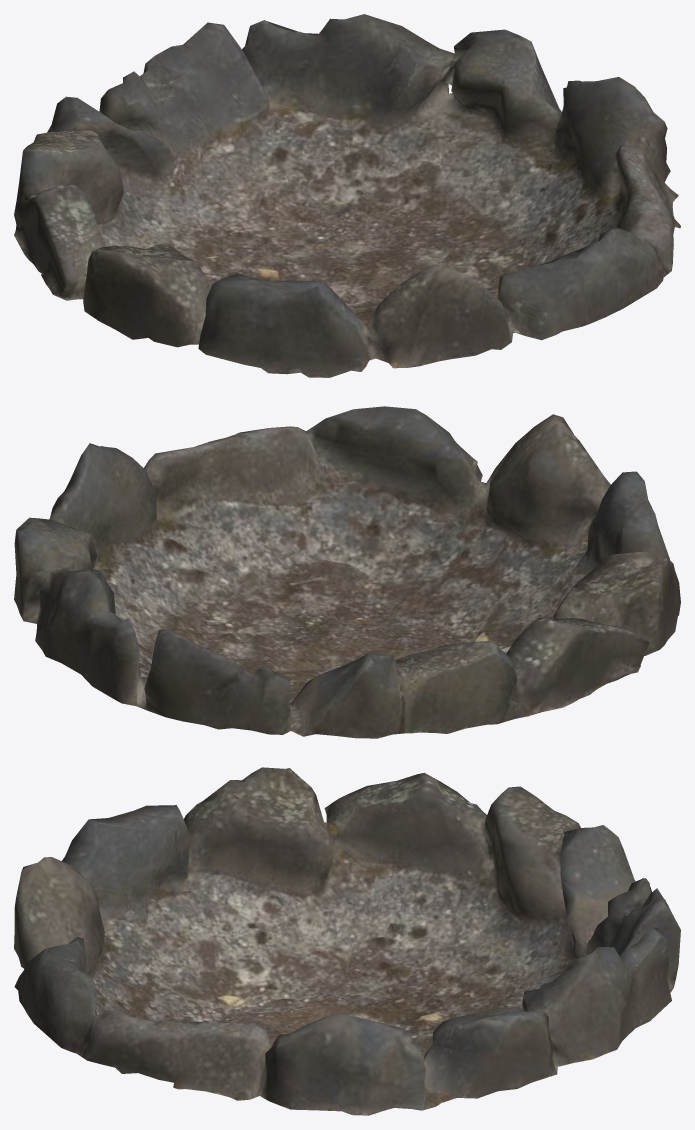
File: stone_fire_pit.glb
3 renders of one model, top to bottom at view 1: azimuth 30°, elevation 25°; view 2: azimuth 150°, elevation 25°; view 3: azimuth 270°, elevation 25°, orthographic.
Visible parts, largest first — view 1: stone_fire_pit; view 2: stone_fire_pit; view 3: stone_fire_pit.
Boxes of the visible parts, left/top/right/bottom form: stone_fire_pit: left=14, top=14, right=680, bottom=377; stone_fire_pit: left=14, top=406, right=680, bottom=738; stone_fire_pit: left=14, top=767, right=680, bottom=1115.
Size of the model in its own units: 1.45 by 0.3883 by 1.43.
1 material, 1 textured.
